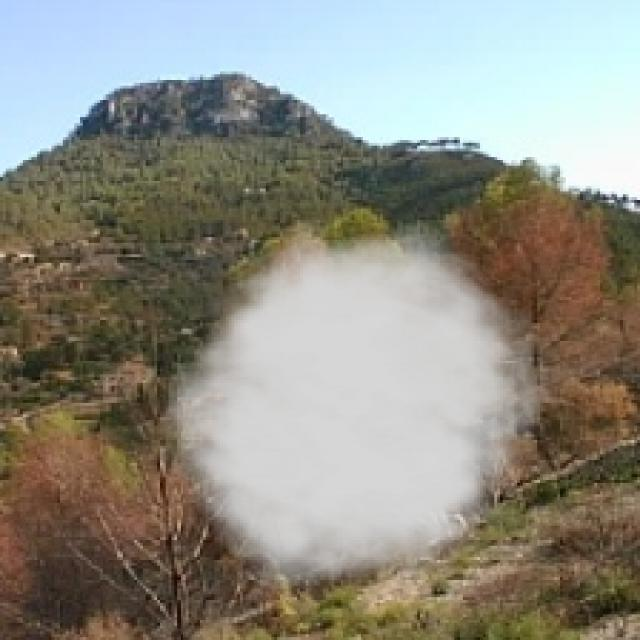smoke: (149, 220, 560, 606)
